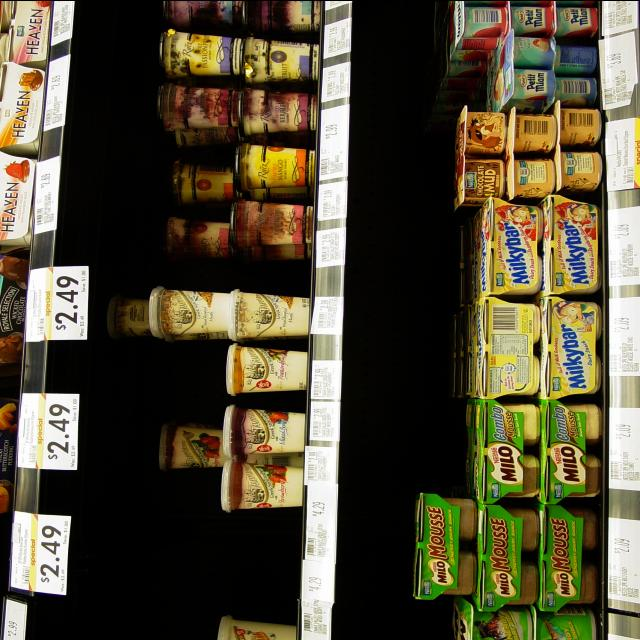empty_space: (347, 7, 445, 489), (79, 511, 305, 617), (77, 7, 163, 261), (338, 488, 415, 636), (80, 349, 220, 414), (68, 467, 220, 506), (79, 418, 168, 463)
